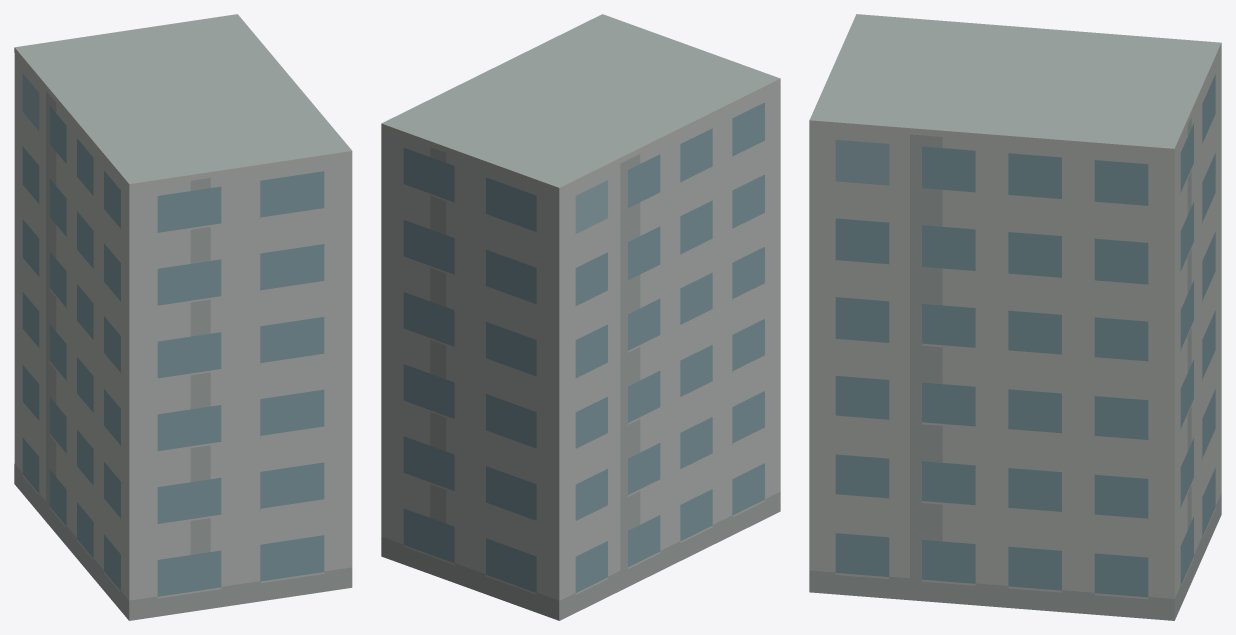
File: survey-upis-32707732.glb
3 views of the same model, side by side, from view 1: azimuth 30°, elevation 25°; view 2: azimuth 150°, elevation 25°; view 3: azimuth 270°, elevation 25° (orthographic). The views are drawn at different scales.
Visible parts, largest first — view 1: survey-upis-32707732.tmp; view 2: survey-upis-32707732.tmp; view 3: survey-upis-32707732.tmp.
Part boxes in pixels (<box>): survey-upis-32707732.tmp: <box>14,14,352,620</box>; survey-upis-32707732.tmp: <box>381,14,780,620</box>; survey-upis-32707732.tmp: <box>809,14,1221,620</box>.
Size of the model in its own units: 11.22 by 18.3 by 14.49.
